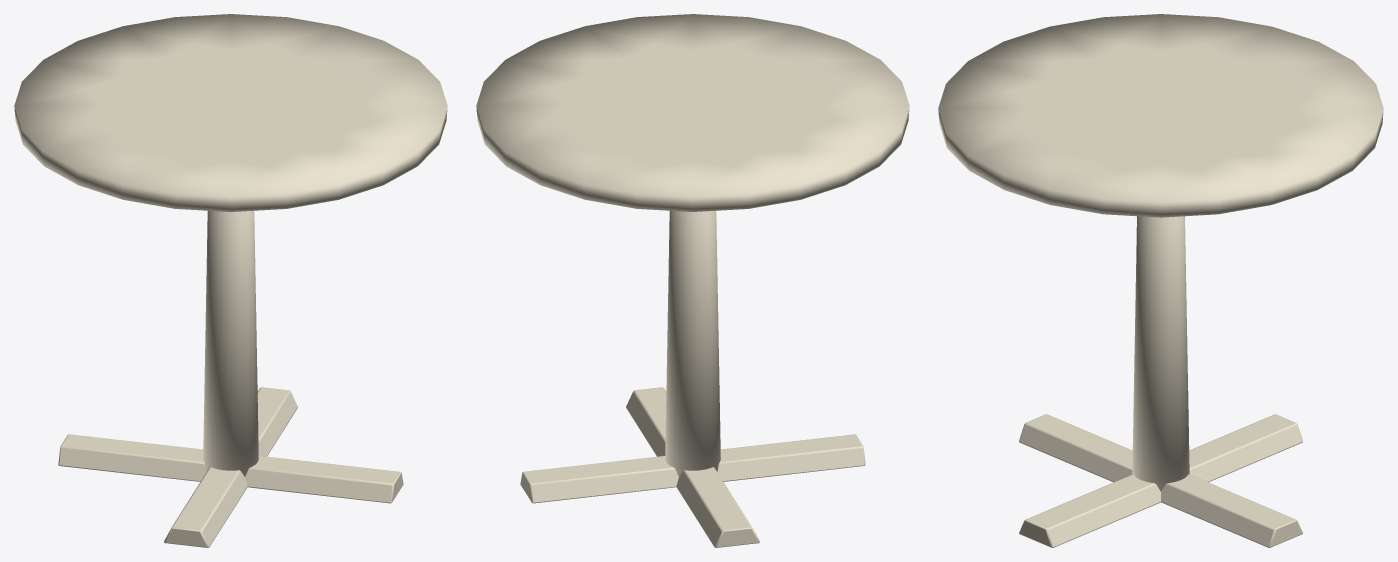
The model's file is SM_PlasticTable.glb.
3 renders of one model, left to right at view 1: azimuth 30°, elevation 25°; view 2: azimuth 150°, elevation 25°; view 3: azimuth 270°, elevation 25°, orthographic. The views are drawn at different scales.
Parts seen in each view (by area): view 1: SM_PlasticTable; view 2: SM_PlasticTable; view 3: SM_PlasticTable.
Boxes of the visible parts, <box> form: SM_PlasticTable: <box>14,14,447,547</box>; SM_PlasticTable: <box>476,14,909,547</box>; SM_PlasticTable: <box>938,14,1383,547</box>.
Bounding box in the file's own units: 0.7643 × 0.72 × 0.7643.
